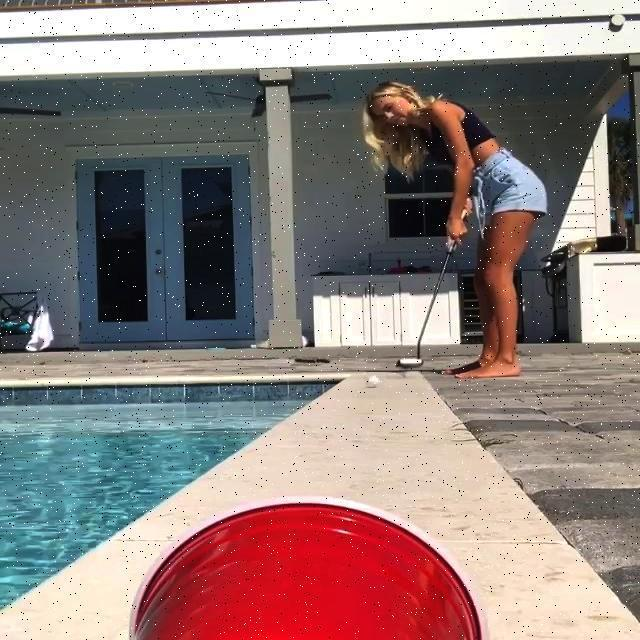ClubHead: (398, 358, 424, 369)
GolfBall: (367, 376, 380, 387)
